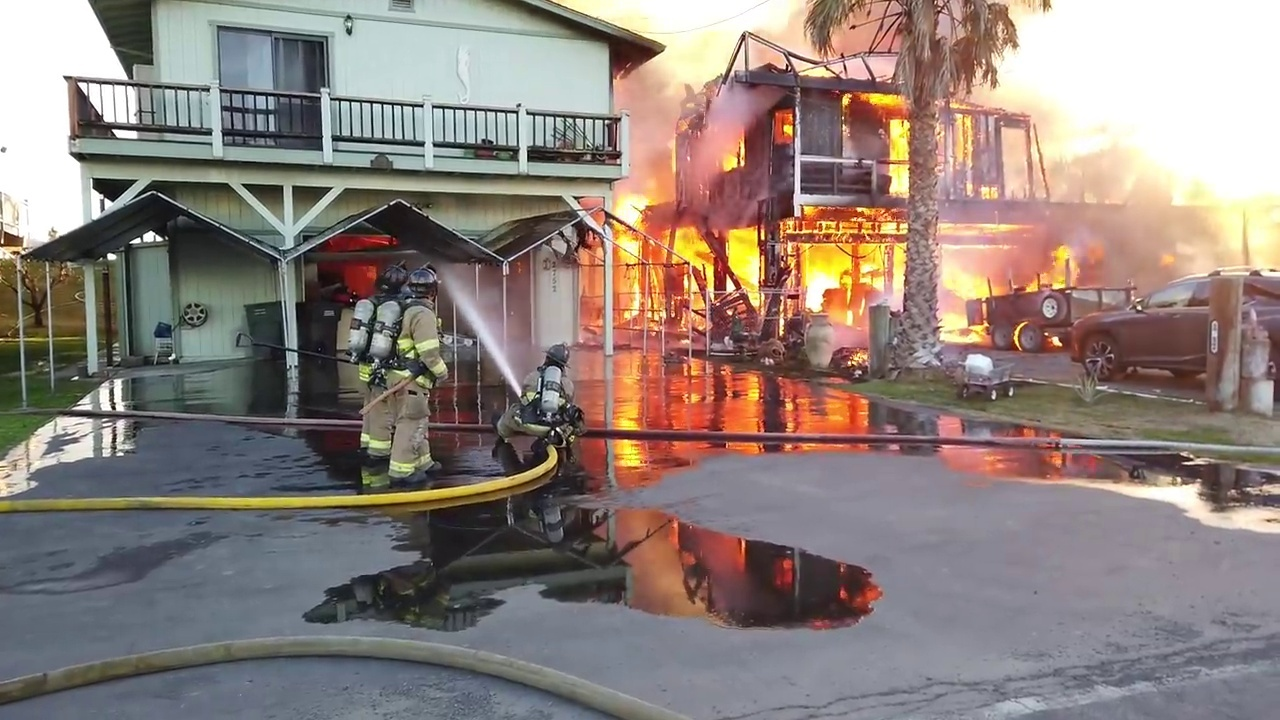fire: (602, 192, 666, 329), (663, 225, 758, 302), (800, 236, 899, 308), (939, 256, 990, 343), (1021, 242, 1081, 295), (719, 133, 747, 172), (1010, 316, 1030, 349), (973, 177, 1000, 201), (1045, 330, 1064, 347)
smoke: (1094, 91, 1279, 287), (955, 5, 1127, 168), (626, 67, 783, 183)
